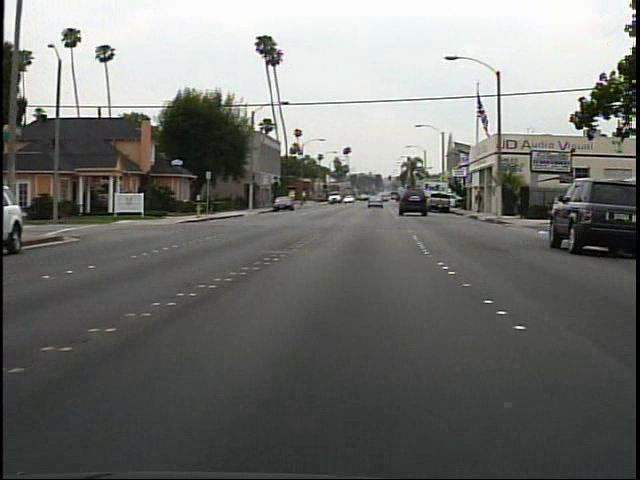person: (469, 187, 487, 217)
